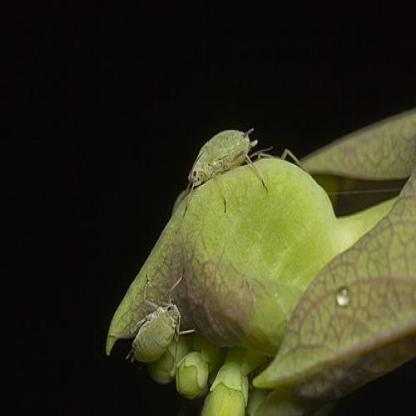aphid: (119, 274, 198, 377), (176, 123, 272, 201)
